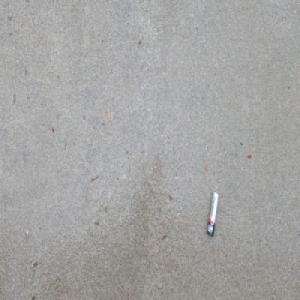Battery: (206, 189, 220, 238)
